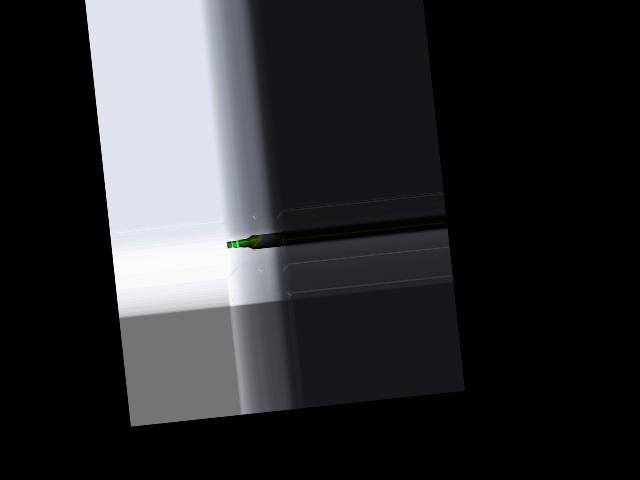beer: (226, 232, 282, 252)
